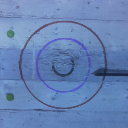Axe Tip: (92, 71, 104, 74)
